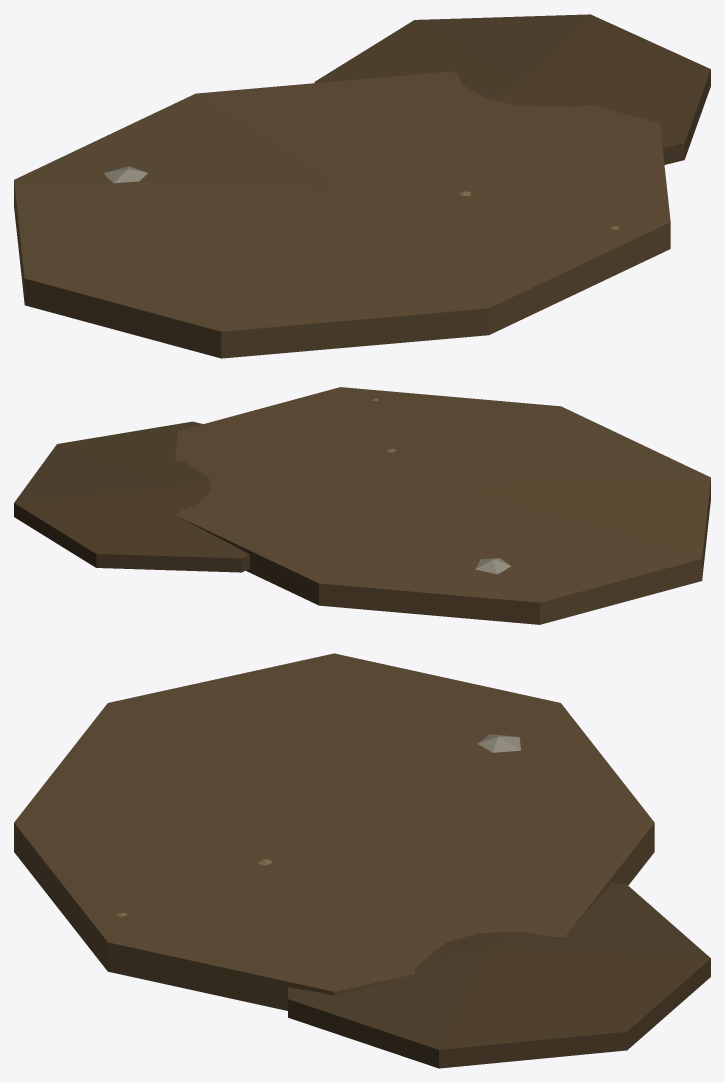
Rendered from cover_mud_patch.glb.
3 views of the same model, one above another, from view 1: azimuth 30°, elevation 25°; view 2: azimuth 150°, elevation 25°; view 3: azimuth 270°, elevation 25° (orthographic). The views are drawn at different scales.
Parts seen in each view (by area): view 1: cover_mud_patch; view 2: cover_mud_patch; view 3: cover_mud_patch.
Part boxes in pixels (left/top/right/bottom): cover_mud_patch: left=14, top=14, right=710, bottom=358; cover_mud_patch: left=14, top=387, right=710, bottom=624; cover_mud_patch: left=14, top=653, right=710, bottom=1068.
Bounding box in the file's own units: 1.8 × 0.126 × 1.36.
